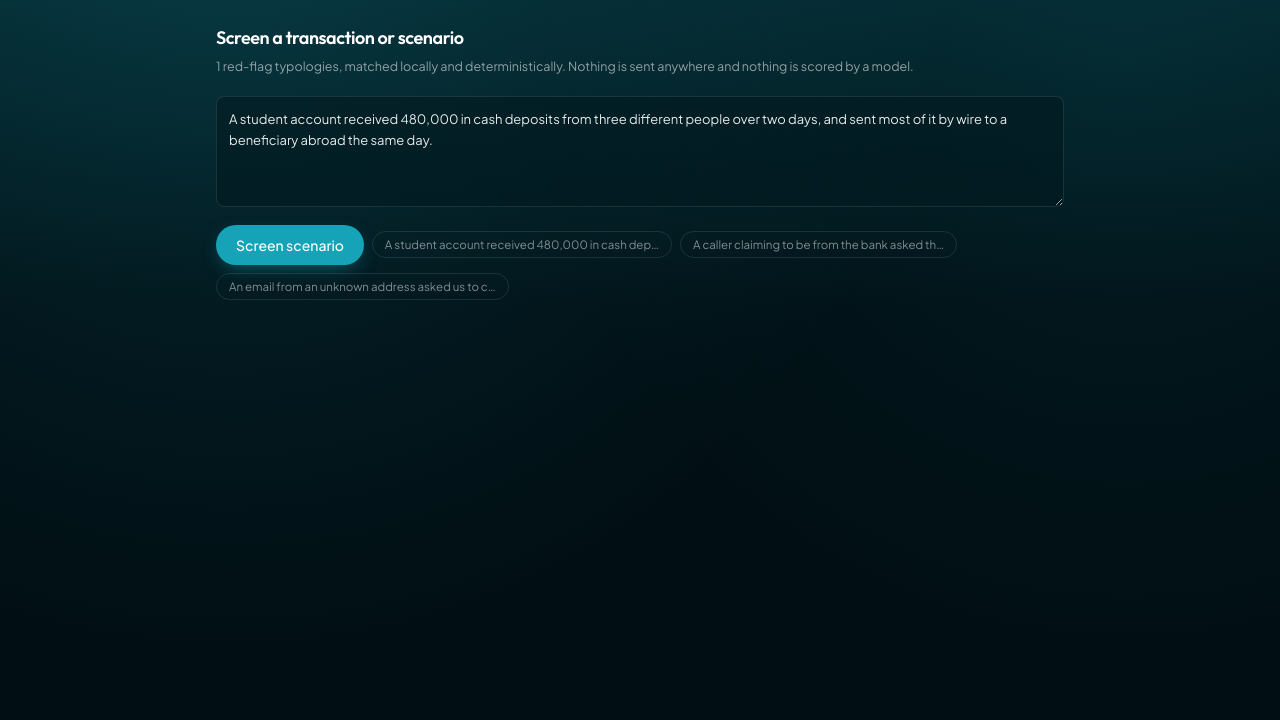
Test case: FraudRisk › offers the scenario box and a run control, neither of them a dead end
This screenshot has width=1280, height=720.
Replace the text in the text box named "scenario" with "cash deposits then a wire abroad": (640, 152) [216,96,1064,207]
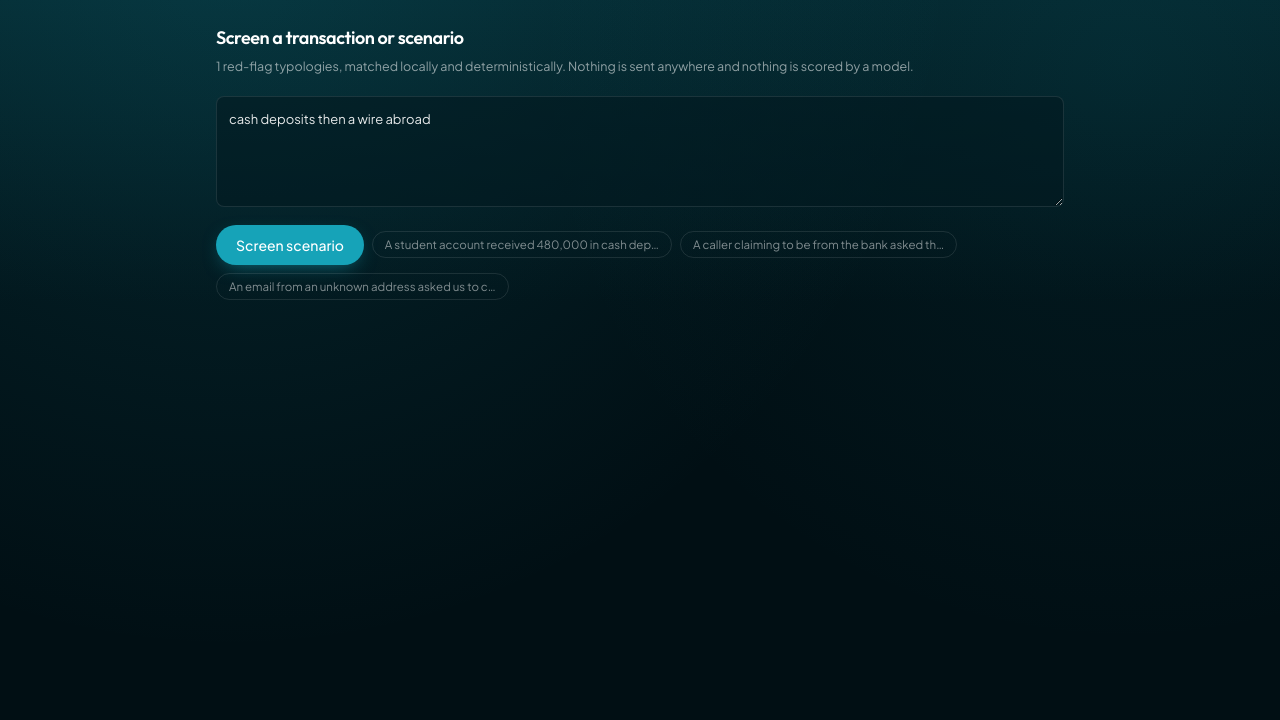
Click the button "Screen scenario": (290, 245) [216,225,364,265]
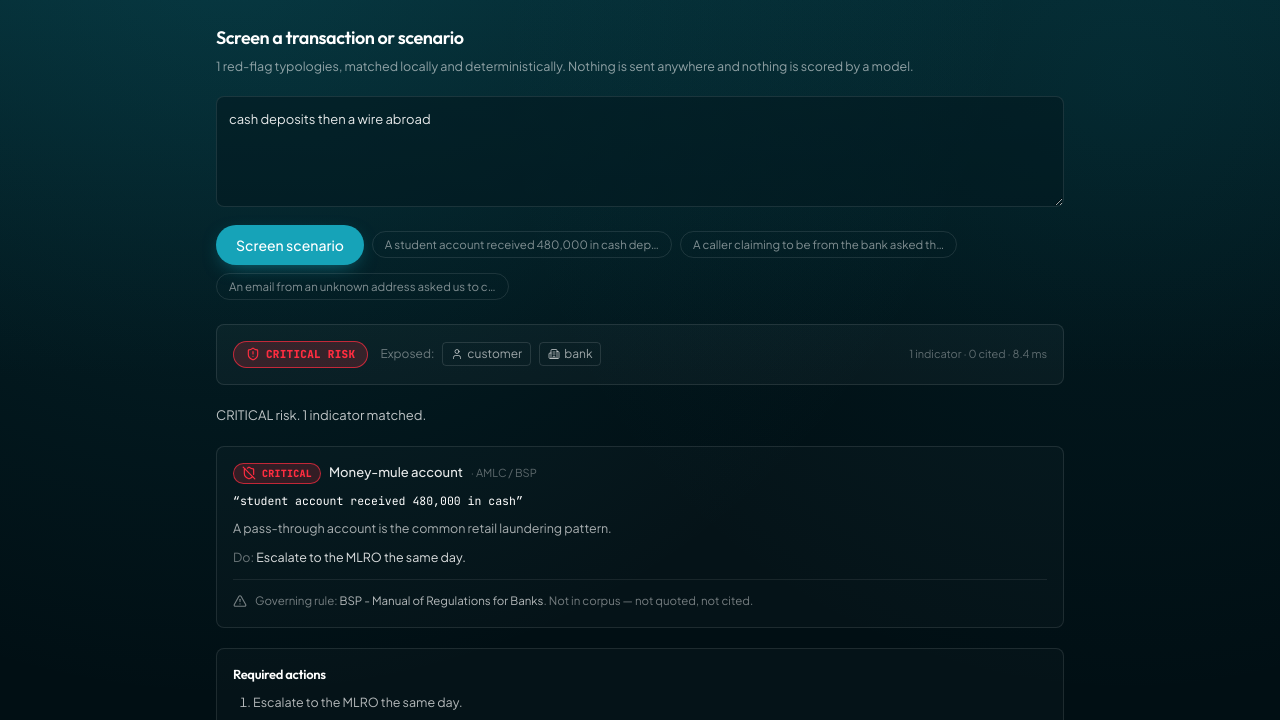
Check: the text "CRITICAL risk" is shown, box [266,346,355,363]
